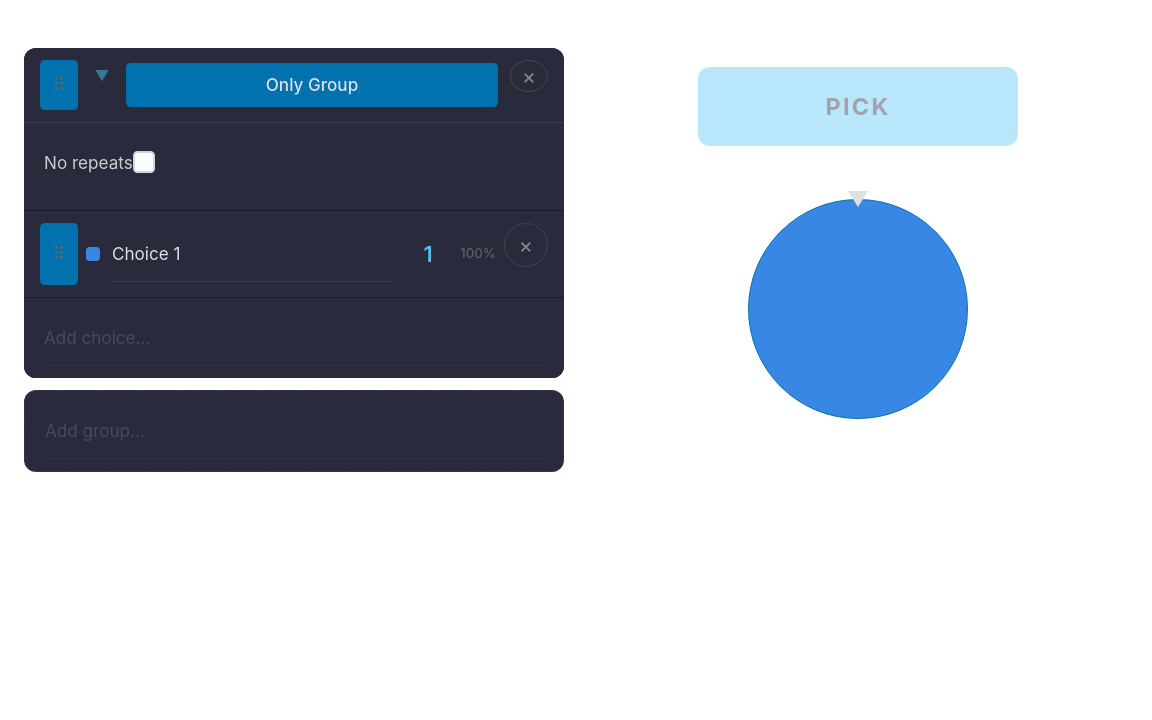
Test: WeightedChoices grouped structure › Group management › keeps the replacement default group expanded after deleting the last remaining group
The width and height of the screenshot is (1152, 720).
Click the 1st button "×" at (529, 76), box [510,60,548,92]
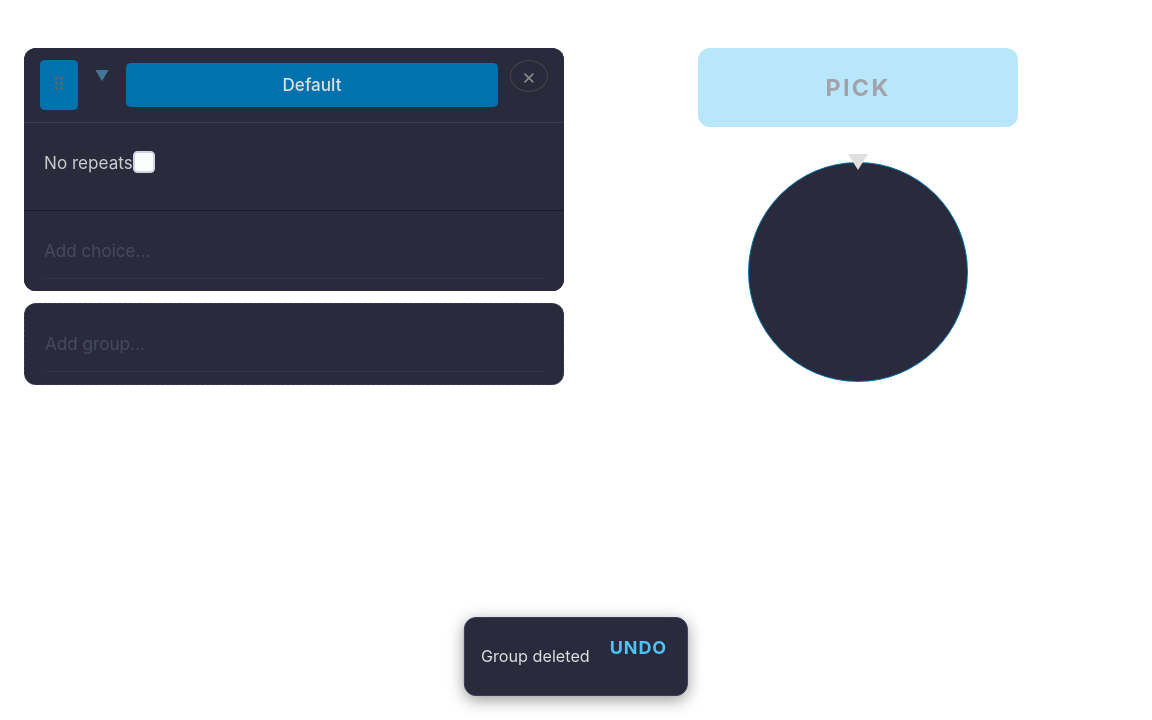
Expected: the button "Default" is shown, [126,63,498,107]
Expected: the field with placeholder "Add choice..." is shown, [40,223,548,279]
